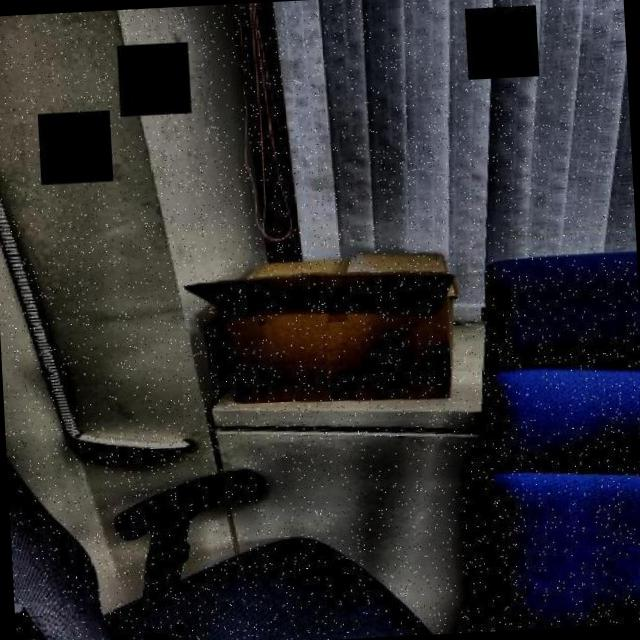box: (175, 238, 488, 432)
